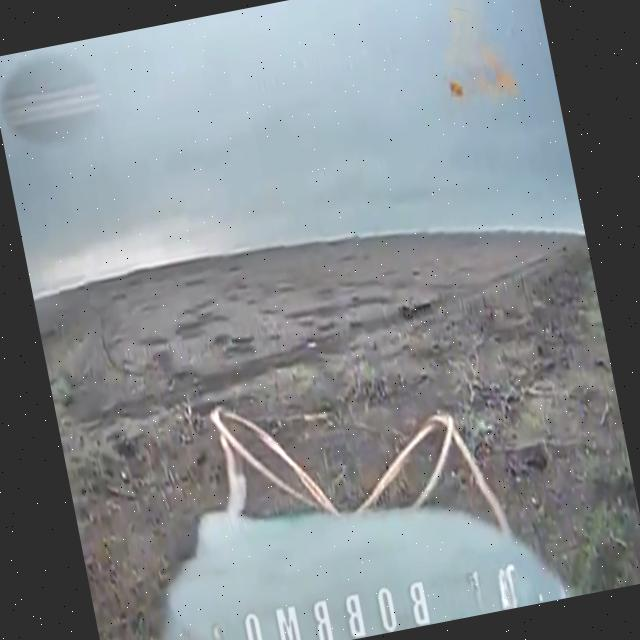AIFV: (399, 295, 438, 322)
